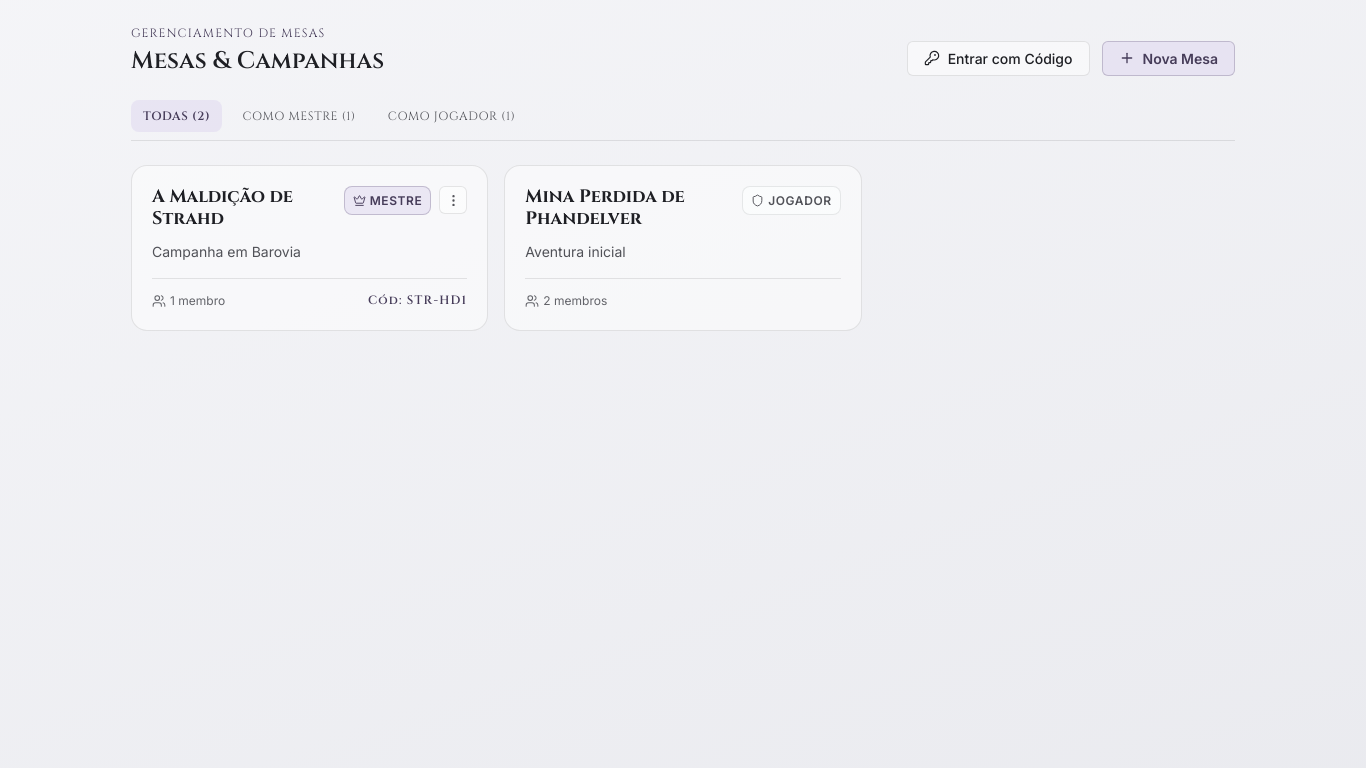
Test: CampaignsPage › abre os modais ao clicar nos botões de ação
The image size is (1366, 768).
Click the button "Nova Mesa" at (1168, 58), box top-left (1102, 41), bottom-right (1235, 76)
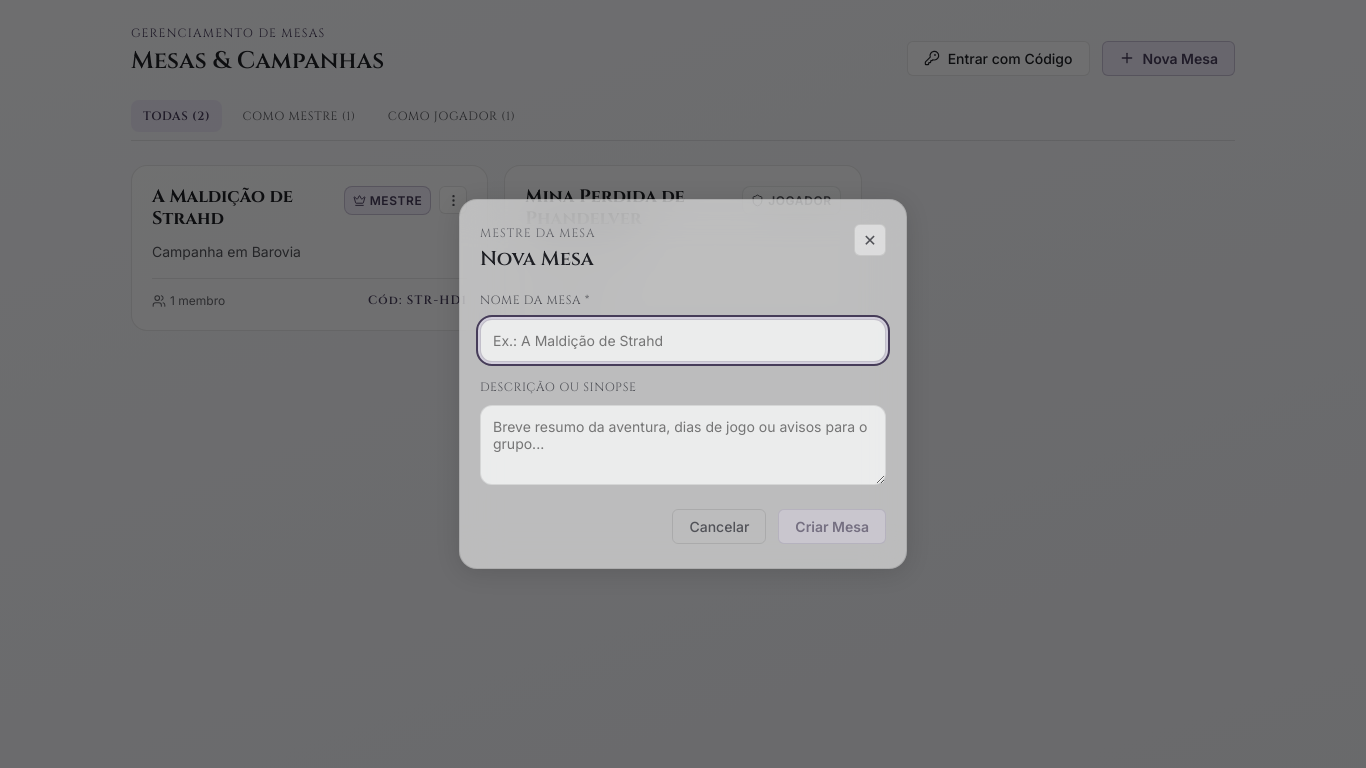
expect the heading "Nova Mesa" is shown: met, box top-left (480, 247), bottom-right (596, 271)
Press Escape
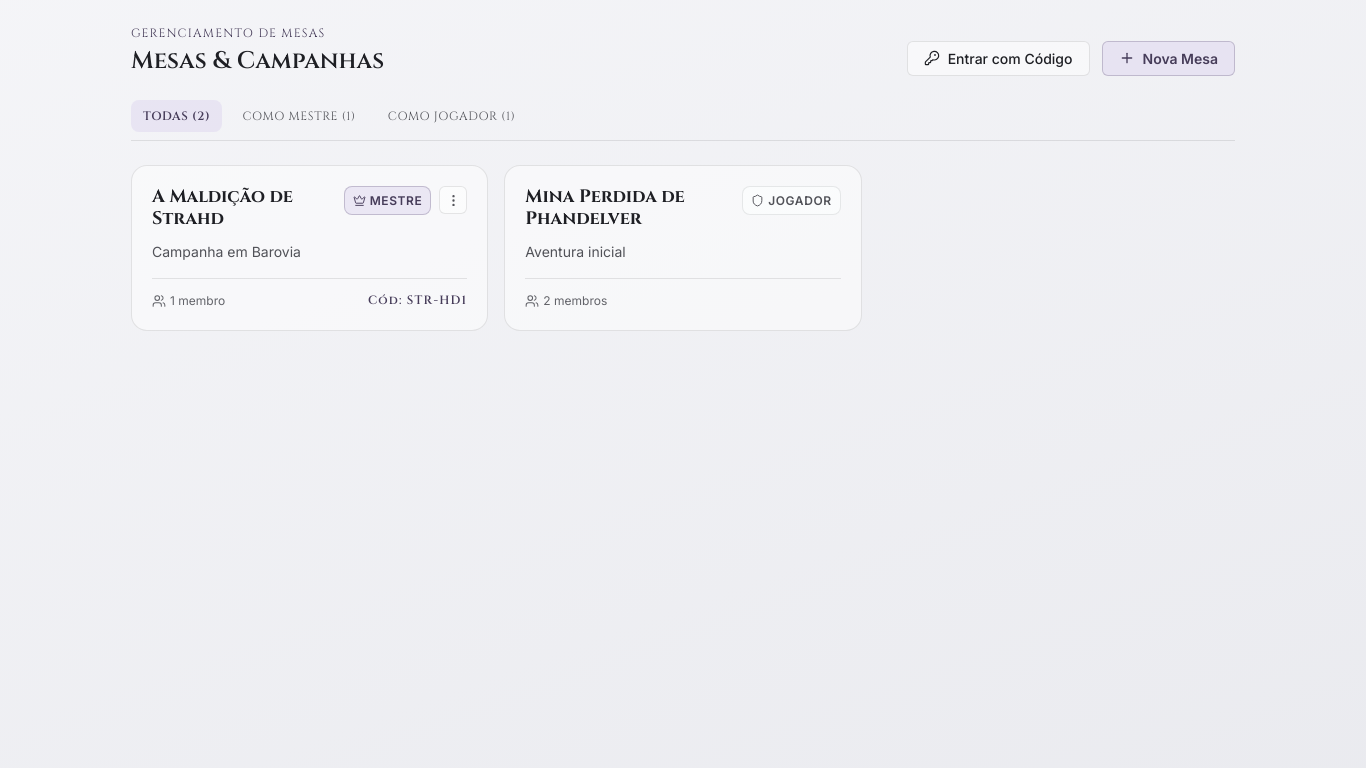
Click the button "Entrar com Código" at (998, 58), box top-left (907, 41), bottom-right (1090, 76)
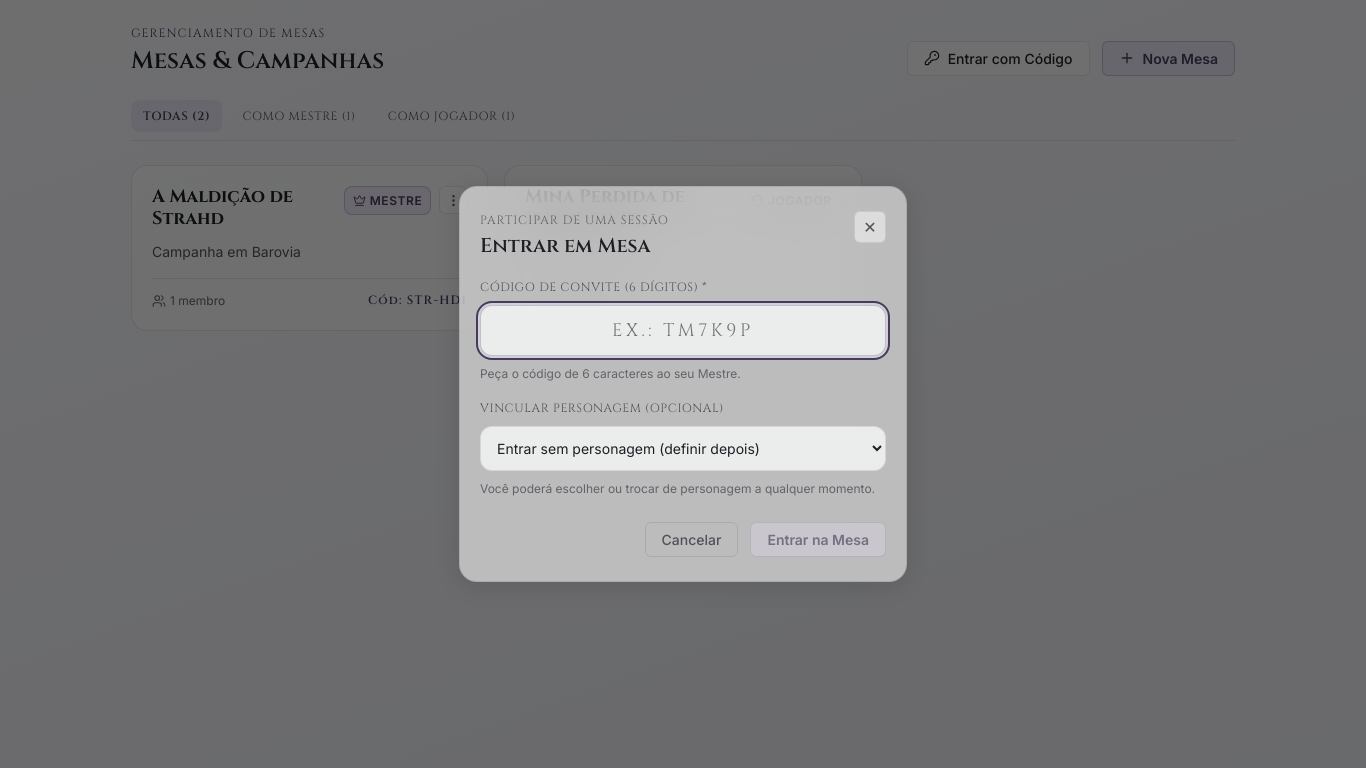
expect the heading "Entrar em Mesa" is shown: met, box top-left (480, 234), bottom-right (669, 258)
